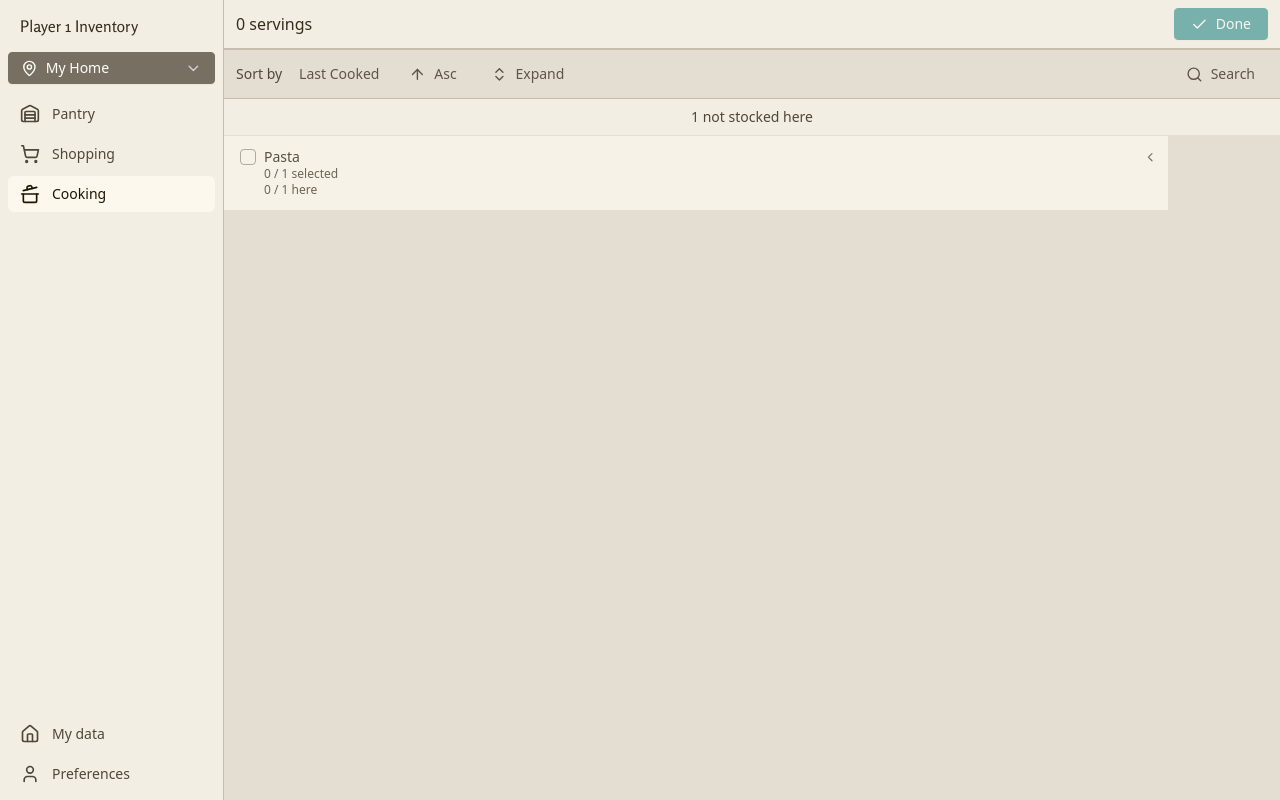
Use (Cooking) Page › user can adjust item amount with + button
Click the button named "Expand Pasta". click: (1150, 157)
box: [1136, 143, 1164, 171]
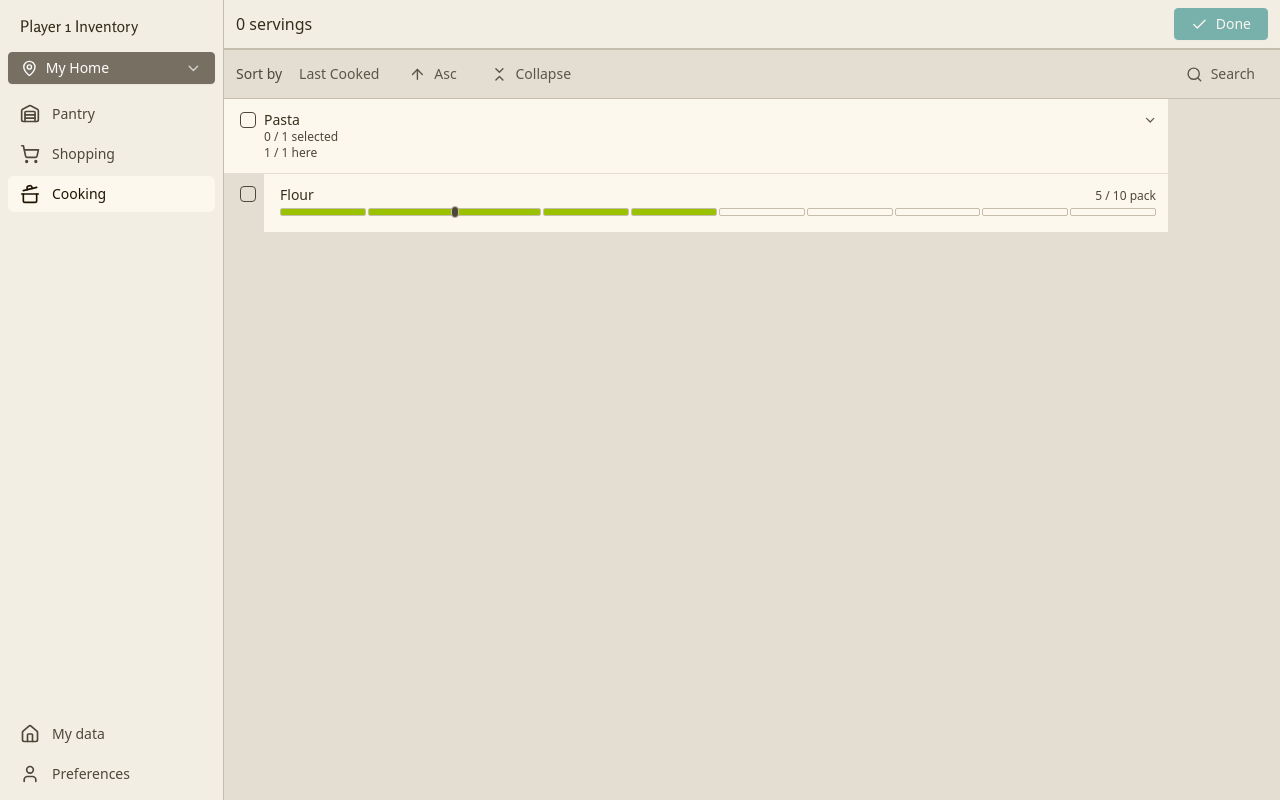
Click the checkbox named "Pasta". click: (248, 120)
box: [240, 112, 256, 128]
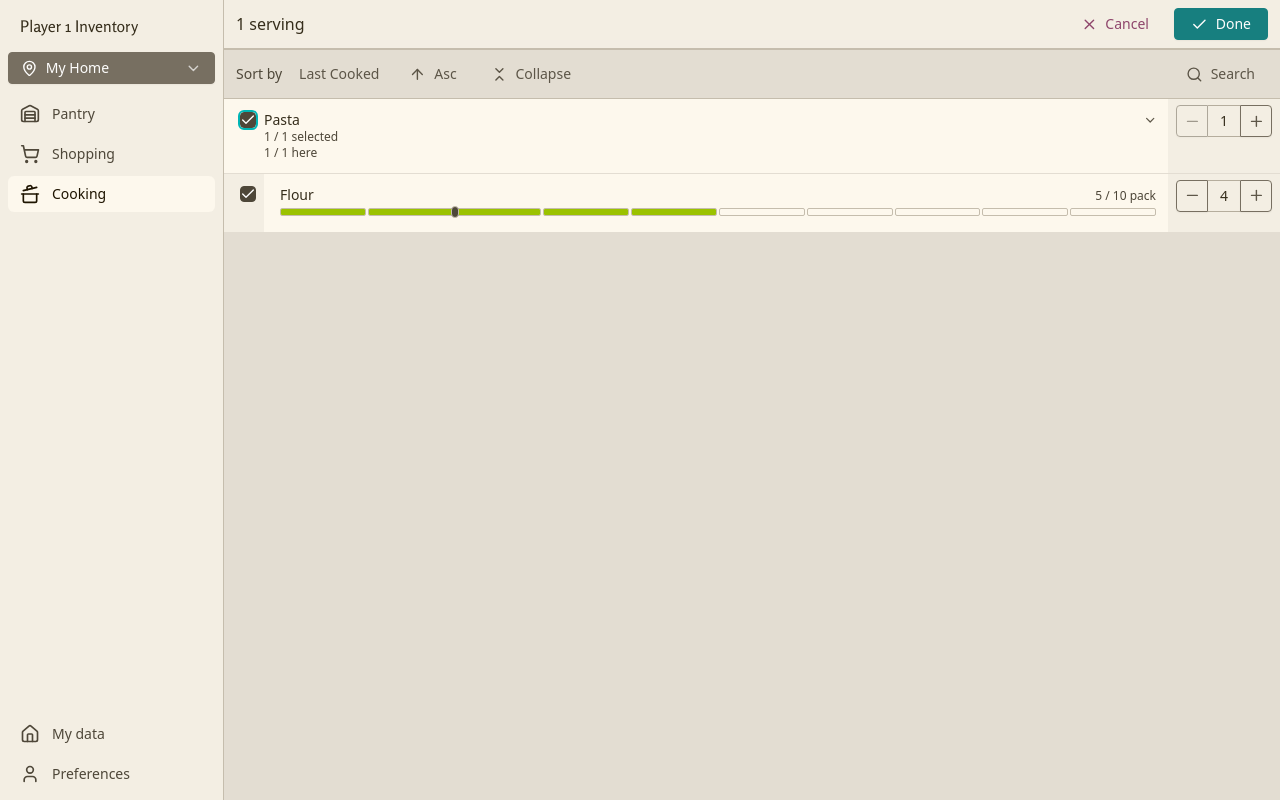
Expected: the button named "Increase quantity of Flour" is shown
Click the button named "Increase quantity of Flour". click: (1256, 196)
box: [1240, 180, 1272, 212]
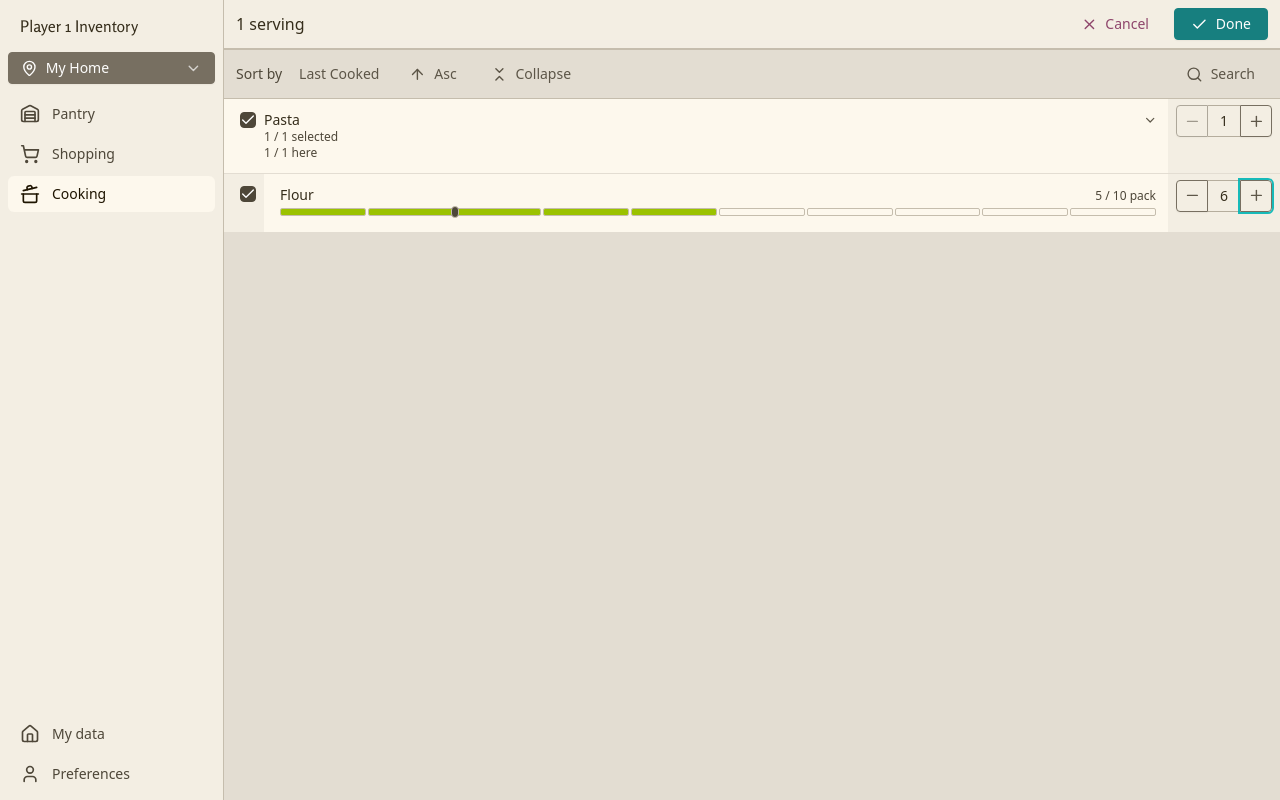
Expected: the text "6" is shown, [1208, 180, 1240, 212]
